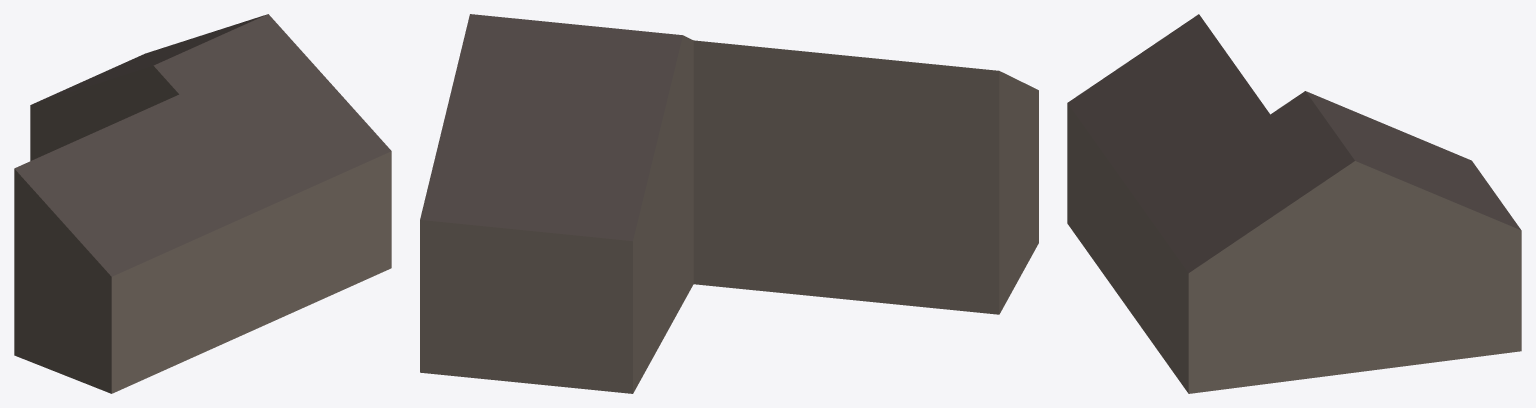
3 renders of one model, left to right at view 1: azimuth 30°, elevation 25°; view 2: azimuth 150°, elevation 25°; view 3: azimuth 270°, elevation 25°, orthographic. The views are drawn at different scales.
Parts seen in each view (by area): view 1: HP-w1200835413; view 2: HP-w1200835413; view 3: HP-w1200835413.
Boxes of the visible parts, x1=… form: HP-w1200835413: x1=14, y1=14, x2=391, y2=393; HP-w1200835413: x1=420, y1=14, x2=1038, y2=393; HP-w1200835413: x1=1067, y1=14, x2=1521, y2=393.
Bounding box in the file's own units: 19.97 × 10.53 × 20.47.
